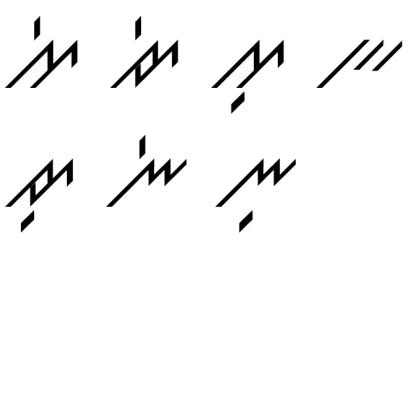je: (108, 11, 182, 92)
ju: (2, 144, 77, 235)
nye: (104, 126, 191, 213)
nyu: (212, 144, 304, 233)
se: (3, 14, 85, 97)
su: (210, 32, 291, 116)
